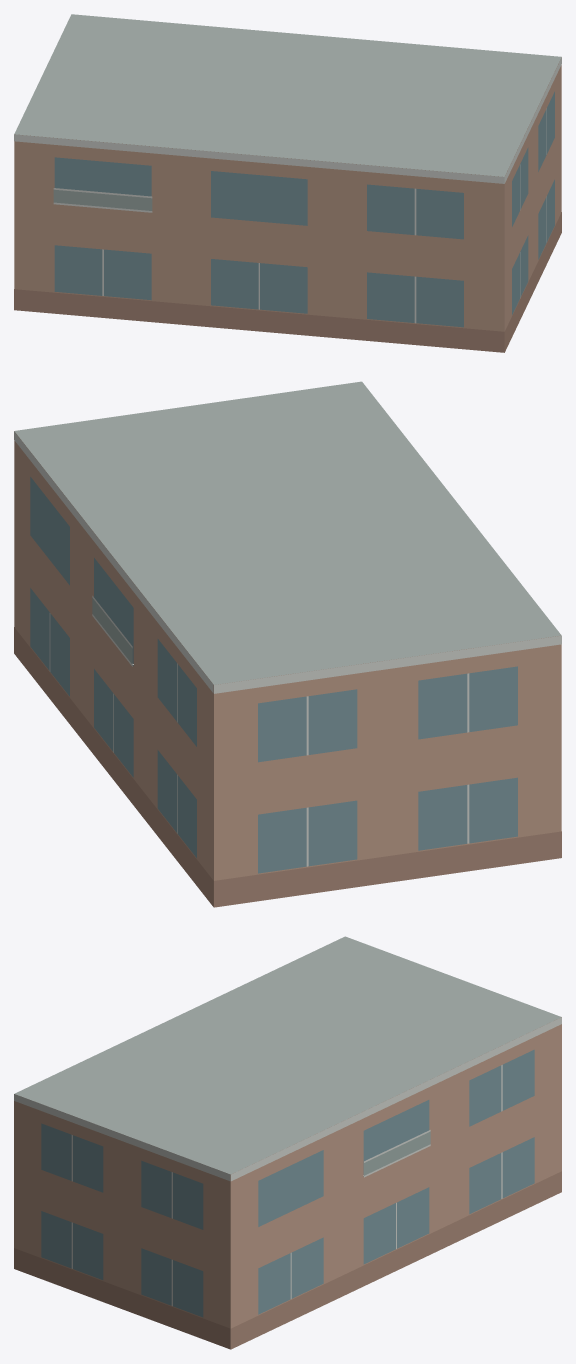
The model's file is survey-upis-32906250.glb.
3 renders of one model, top to bottom at view 1: azimuth 30°, elevation 25°; view 2: azimuth 150°, elevation 25°; view 3: azimuth 270°, elevation 25°, orthographic. The views are drawn at different scales.
Parts seen in each view (by area): view 1: survey-upis-32906250.tmp; view 2: survey-upis-32906250.tmp; view 3: survey-upis-32906250.tmp.
Part boxes in pixels (box(x1,y1,x2,y2)): survey-upis-32906250.tmp: box(14, 14, 561, 352); survey-upis-32906250.tmp: box(14, 381, 561, 907); survey-upis-32906250.tmp: box(14, 936, 561, 1349).
Size of the model in its own units: 17.81 by 6.1 by 17.31.
